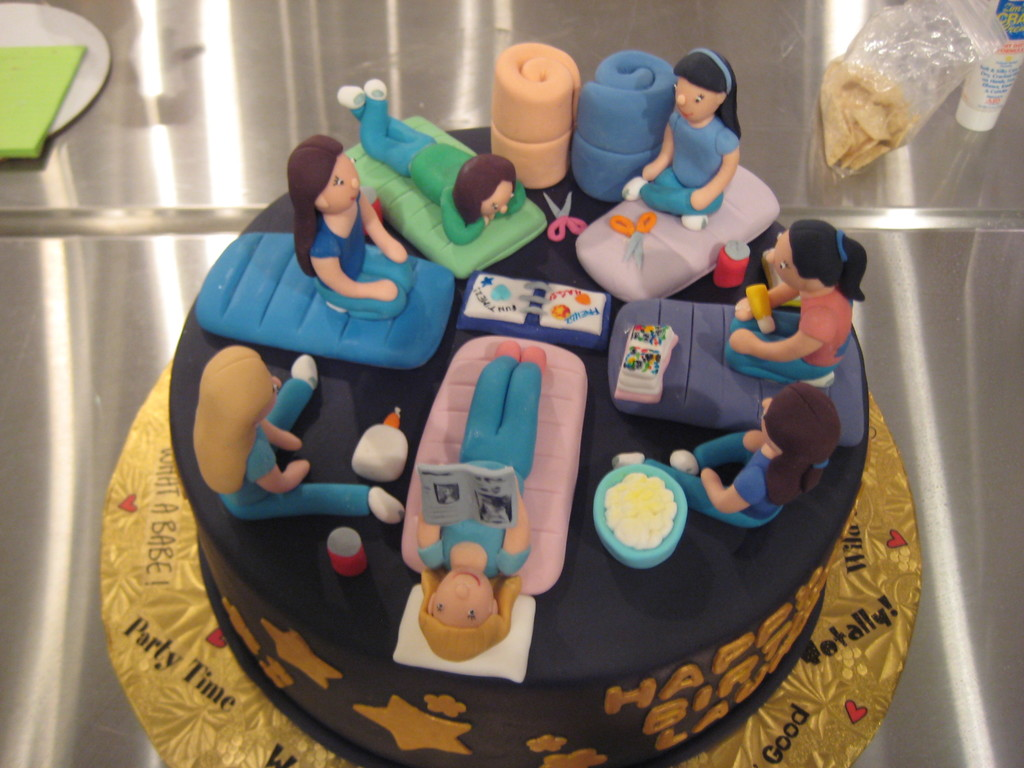cake: (166, 40, 868, 767)
